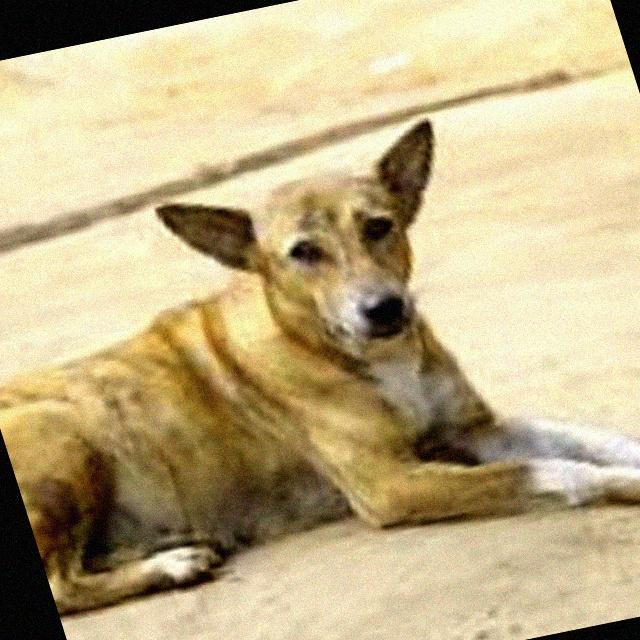dog: (0, 83, 640, 640)
